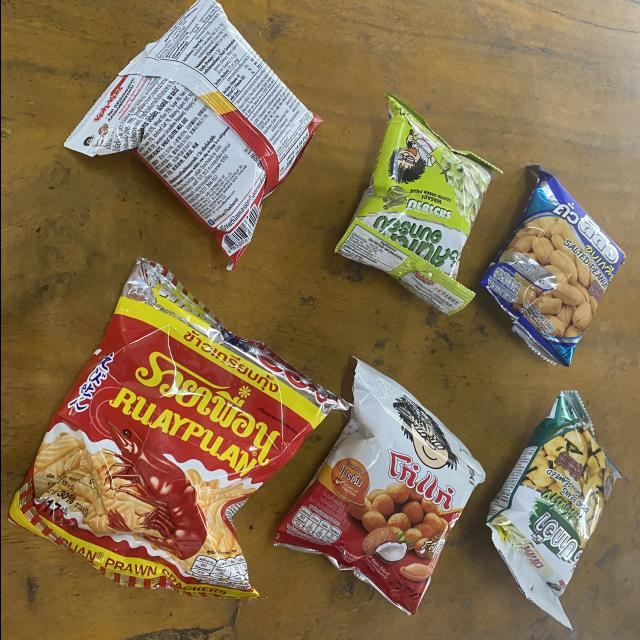plastik: (8, 258, 341, 599), (63, 0, 321, 268), (274, 360, 484, 614), (334, 93, 500, 315), (487, 391, 622, 627), (479, 165, 625, 366)
